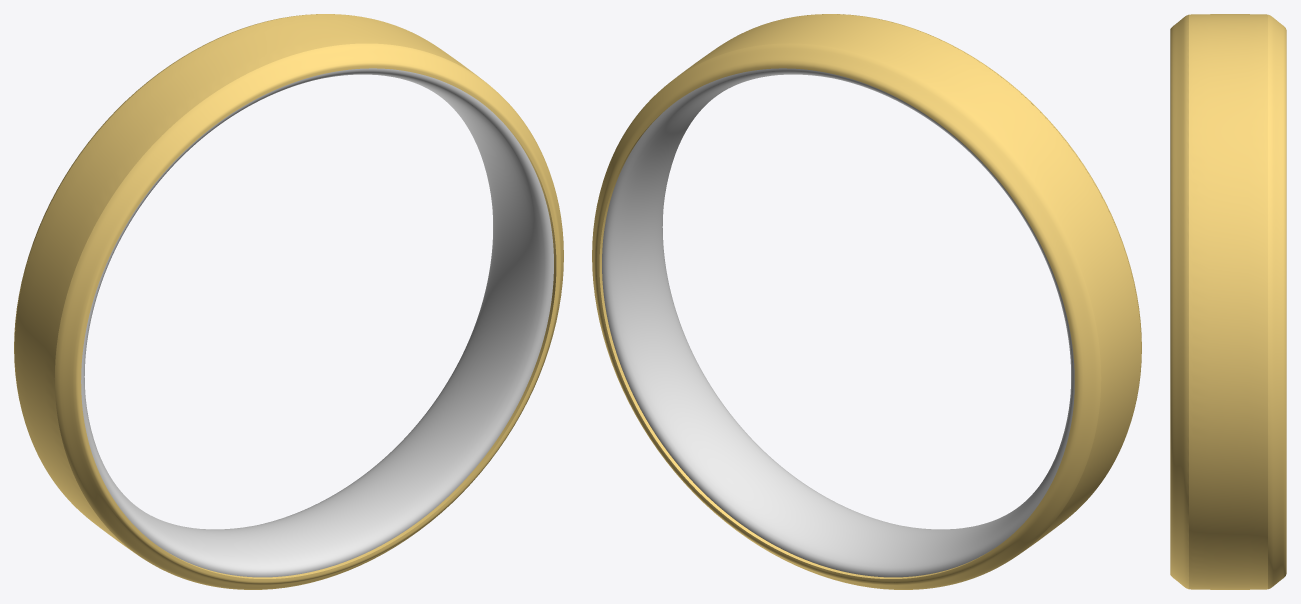
The model's file is MikeBeveledv1.glb.
The picture shows the model from 3 angles, left to right: view 1: azimuth 30°, elevation 25°; view 2: azimuth 150°, elevation 25°; view 3: azimuth 270°, elevation 25°; orthographic projection. The views are drawn at different scales.
Visible parts, largest first — view 1: Mike PT inside ring for 3d model, Mike YG outside sides for 3d model, Mike YG outside center for 3d model; view 2: Mike PT inside ring for 3d model, Mike YG outside sides for 3d model, Mike YG outside center for 3d model; view 3: Mike YG outside center for 3d model, Mike YG outside sides for 3d model.
Boxes of the visible parts, box(x1,y1,x2,y2) form: Mike PT inside ring for 3d model: box(81, 68, 553, 577); Mike YG outside sides for 3d model: box(14, 14, 563, 589); Mike YG outside center for 3d model: box(14, 14, 486, 556); Mike PT inside ring for 3d model: box(602, 68, 1074, 577); Mike YG outside sides for 3d model: box(592, 14, 1141, 589); Mike YG outside center for 3d model: box(664, 14, 1141, 554); Mike YG outside center for 3d model: box(1189, 14, 1267, 589); Mike YG outside sides for 3d model: box(1170, 14, 1286, 589).
Size of the model in its own units: 19.76 by 19.76 by 4.
